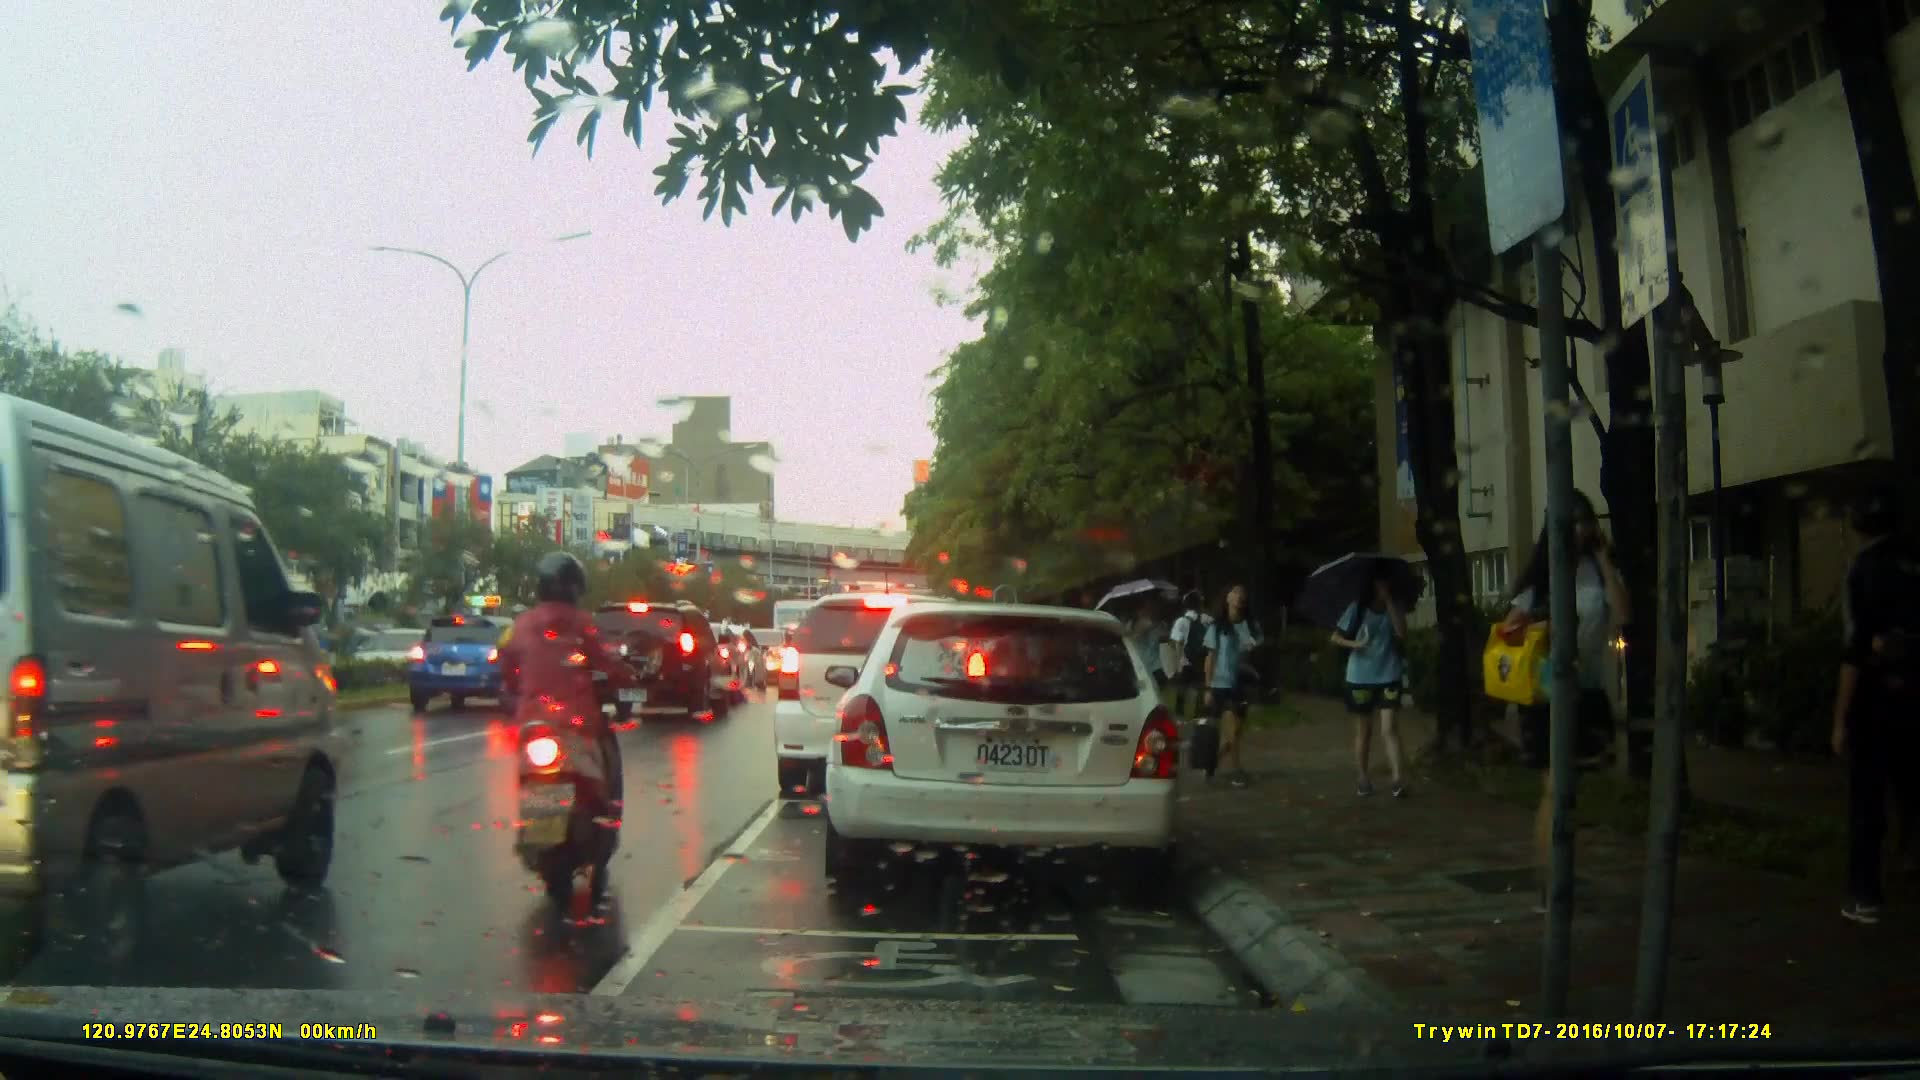pedestrian: (1517, 483, 1642, 909), (1832, 484, 1901, 926), (1328, 553, 1412, 805), (1180, 563, 1262, 772)
rider: (481, 543, 618, 908)
vehicle: (1, 396, 346, 969), (815, 593, 1204, 909), (771, 590, 994, 802), (572, 601, 735, 725), (408, 616, 554, 712)
